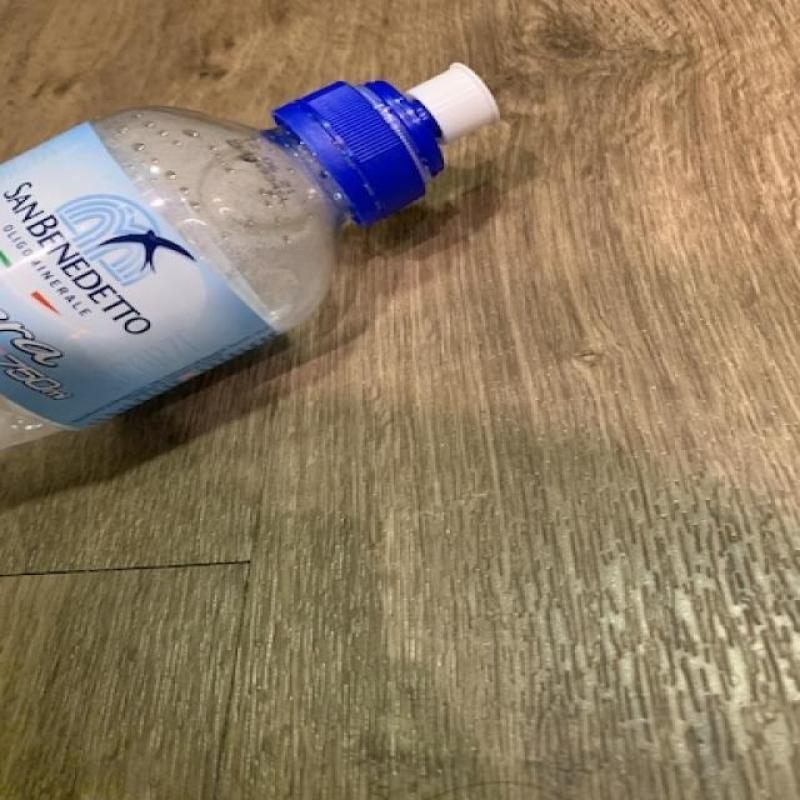botella: (0, 62, 504, 450)
